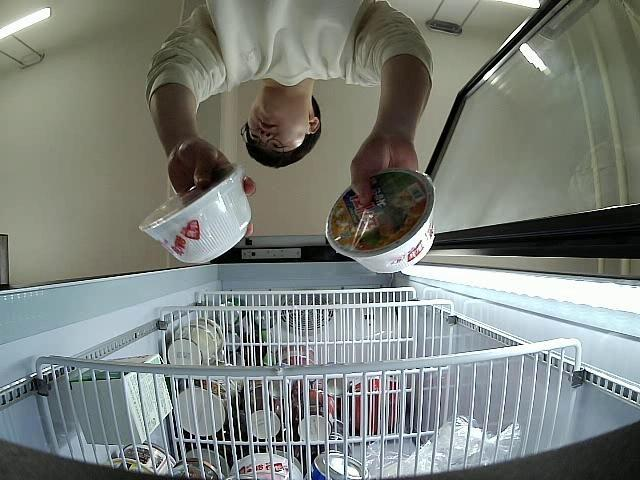09_yukGaeJang: (325, 168, 438, 272), (138, 164, 252, 266)
